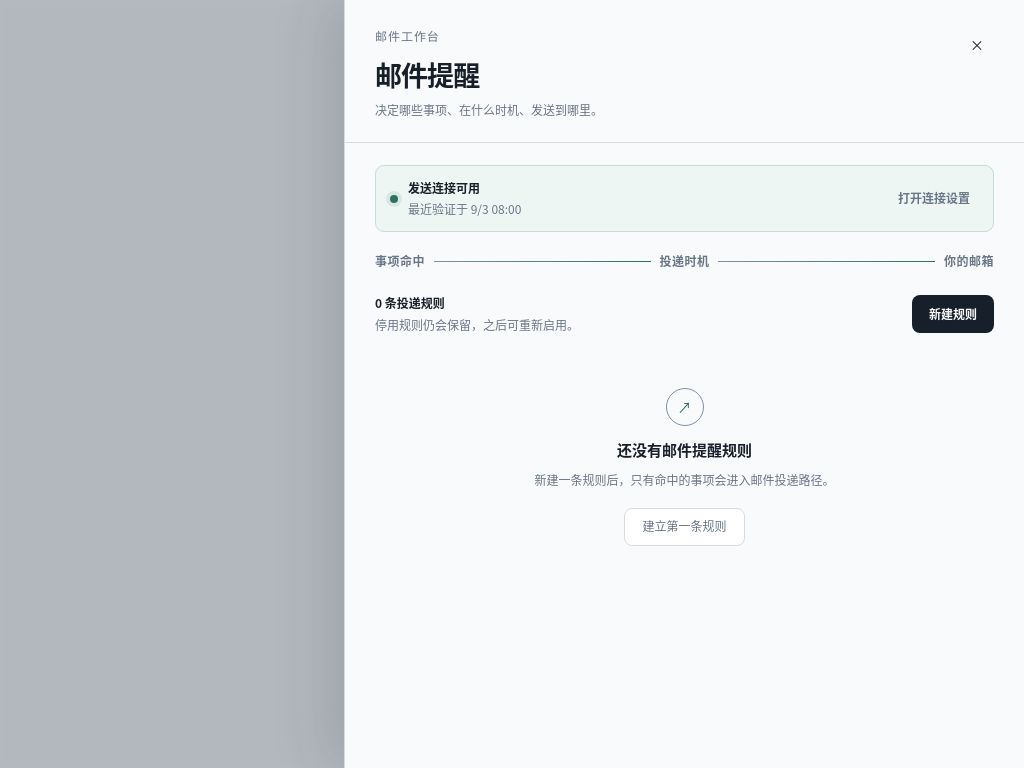
Test case: EmailRulesPanel › 保存经过验证的规则并显示投递路径
The image size is (1024, 768).
Expected: the text "还没有邮件提醒规则" is shown, [617, 438, 752, 462]
Click the button "建立第一条规则" at (684, 526), box [624, 508, 744, 546]
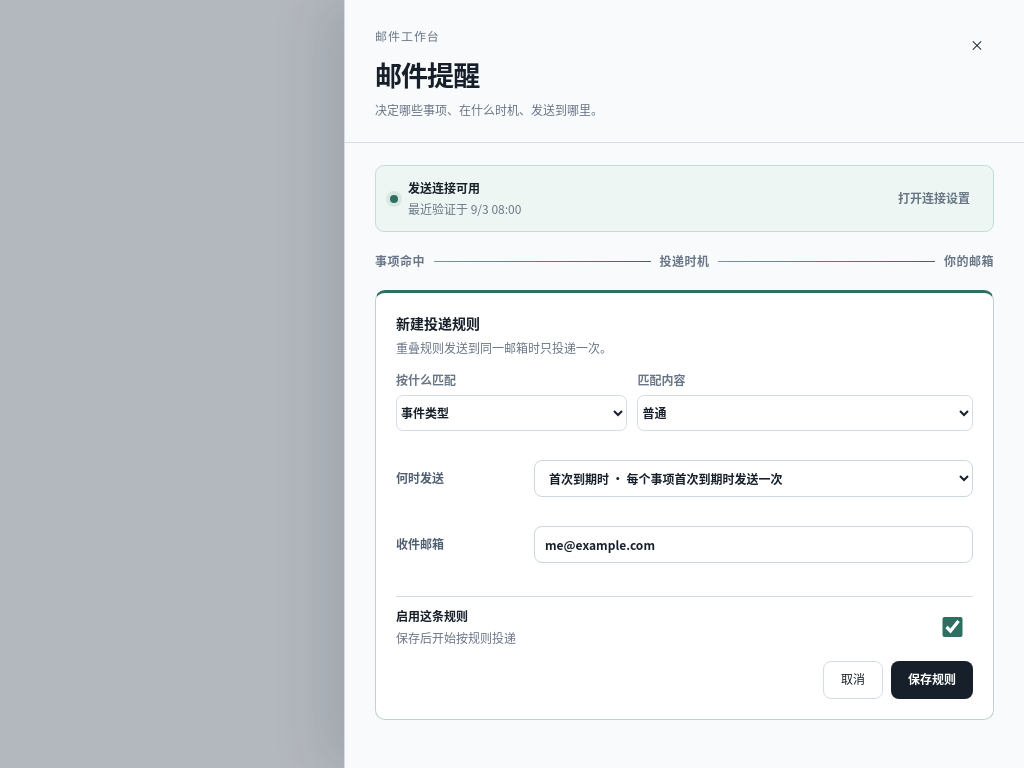
Click the button "保存规则" at (932, 680), box [891, 661, 973, 699]
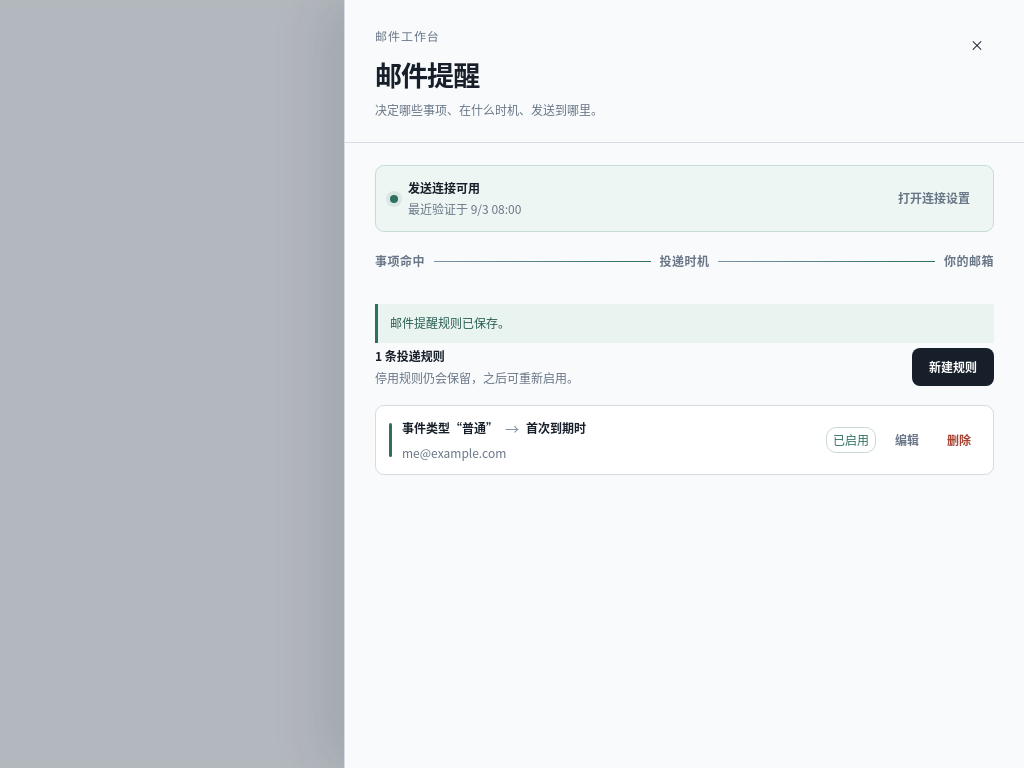
Result: the text "邮件提醒规则已保存。" is shown at [375, 304, 994, 343]
Result: the text "首次到期时" is shown at [526, 419, 586, 438]
